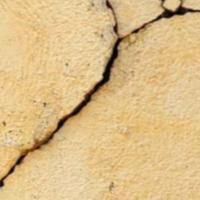crack: (0, 0, 199, 190)
